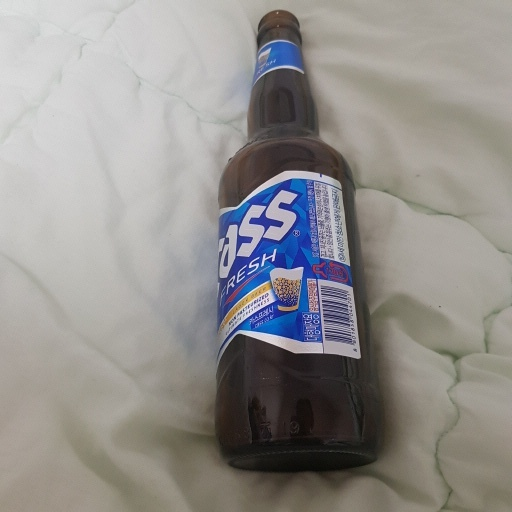Glass_1: (216, 7, 377, 470)
